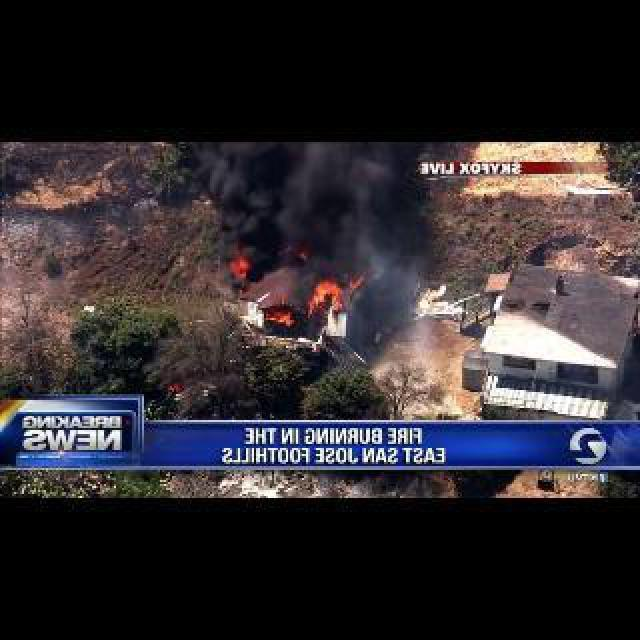Fire: (230, 236, 366, 330)
Smoke: (348, 228, 450, 356)
